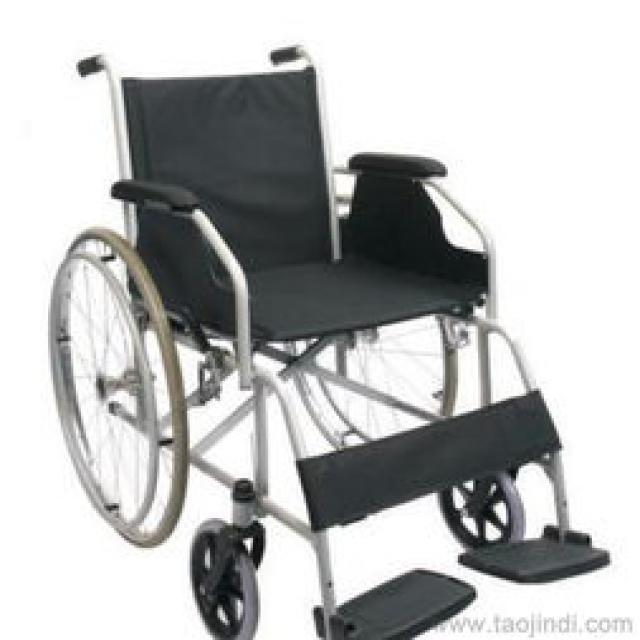wheelchair: (43, 35, 615, 638)
